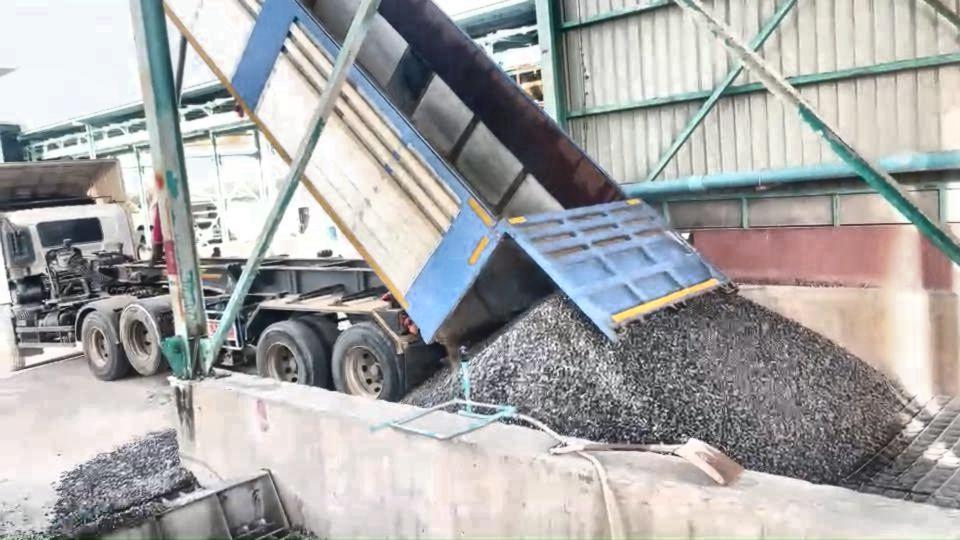gravel: (470, 292, 907, 483), (44, 430, 195, 536), (405, 370, 460, 406)
